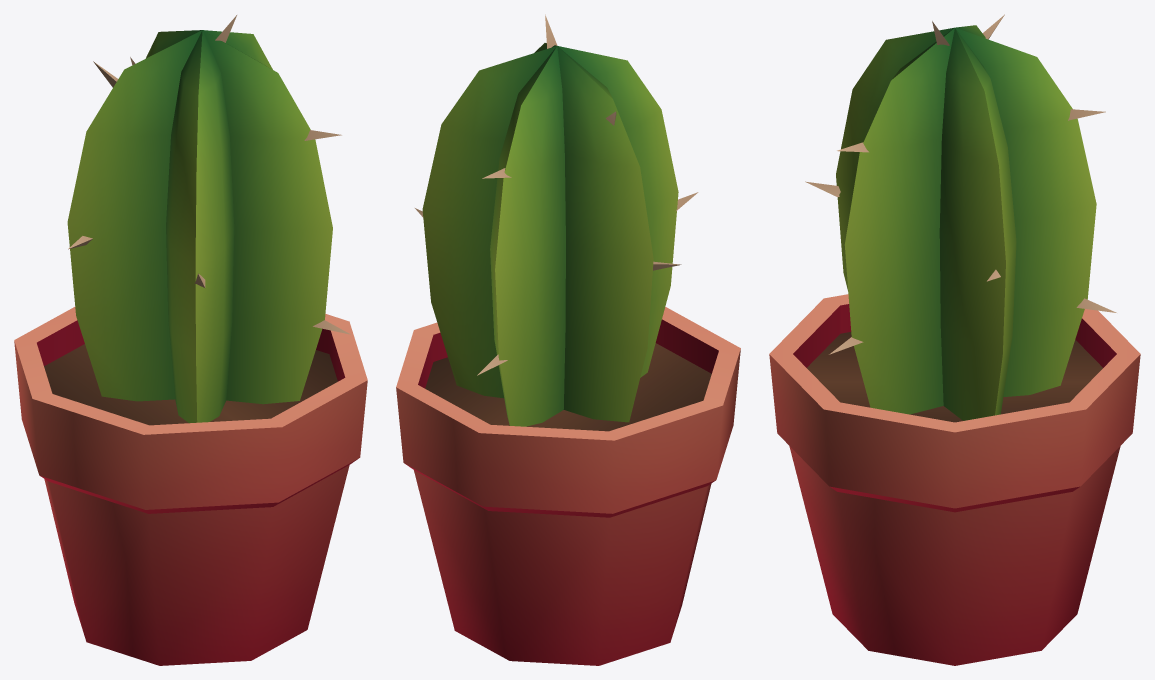
File: CR_Pot_003.FBX
The picture shows the model from 3 angles, left to right: view 1: azimuth 30°, elevation 25°; view 2: azimuth 150°, elevation 25°; view 3: azimuth 270°, elevation 25°; orthographic projection. The views are drawn at different scales.
Visible parts, largest first — view 1: CR_Pot_003; view 2: CR_Pot_003; view 3: CR_Pot_003.
Boxes of the visible parts, x1,y1,x2,y2 form: CR_Pot_003: (14, 15, 367, 665); CR_Pot_003: (396, 14, 740, 665); CR_Pot_003: (769, 14, 1140, 665).
Bounding box in the file's own units: 13.56 × 24.61 × 13.56.
